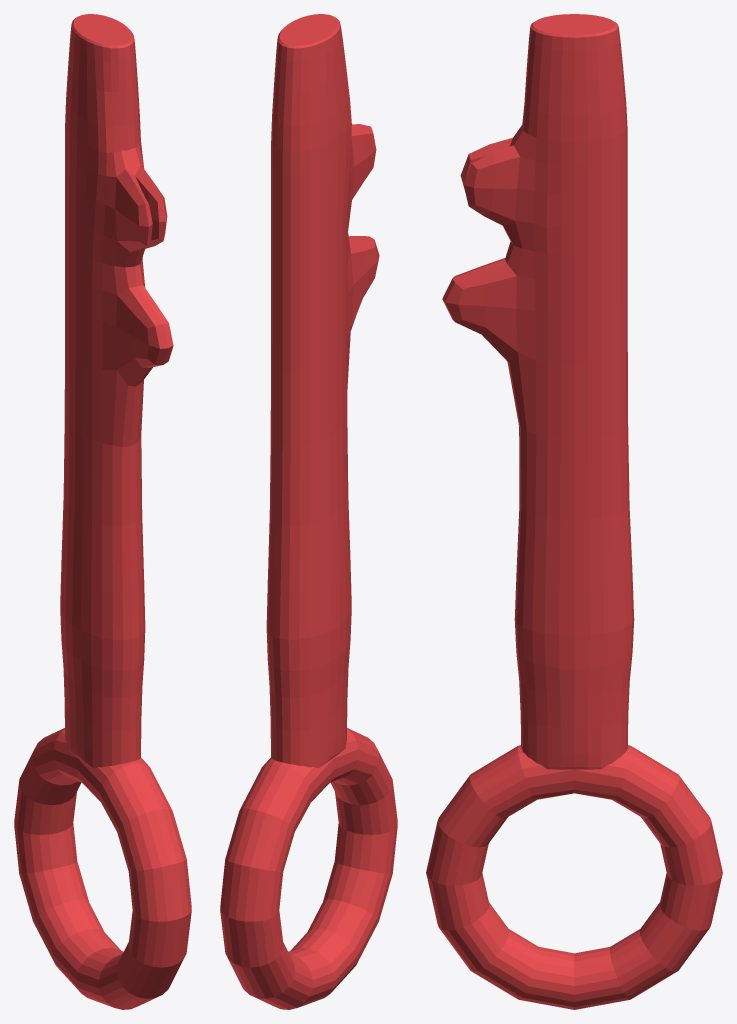
The model's file is key.fbx.
3 renders of one model, left to right at view 1: azimuth 30°, elevation 25°; view 2: azimuth 150°, elevation 25°; view 3: azimuth 270°, elevation 25°, orthographic.
Parts seen in each view (by area): view 1: Torus; view 2: Torus; view 3: Torus.
Boxes of the visible parts, x1,y1,x2,y2 form: Torus: (14, 14, 191, 1009); Torus: (220, 14, 397, 1009); Torus: (426, 14, 722, 1009).
Size of the model in its own units: 131 by 1945 by 533.
